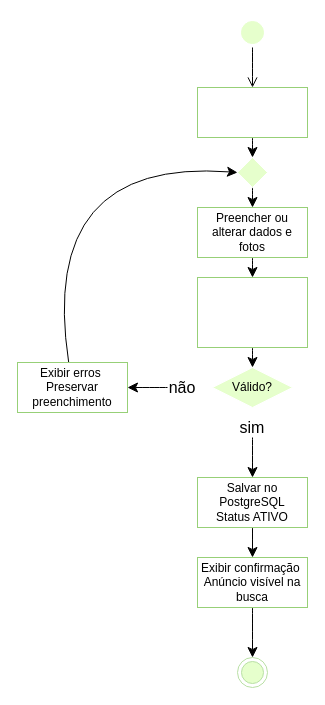
The diagram is 325 pixels wide and 705 high, and some of its shapes have lost their labels. The shapes that lost their labels are listed below. From the top down, each one's centre as x and y in pixels, then its label:
[252,112]: Abrir formulário Usuário autenticado
[252,312]: Validar propriedade, dados, excedente e regras sanitárias
